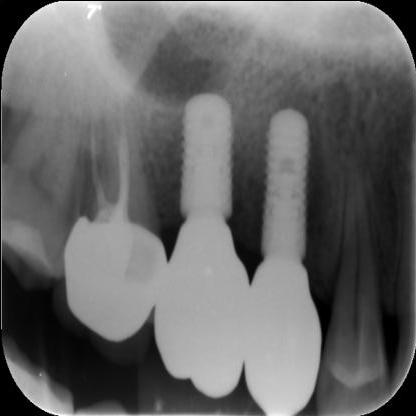ITI: (255, 106, 317, 265), (172, 91, 238, 228)
